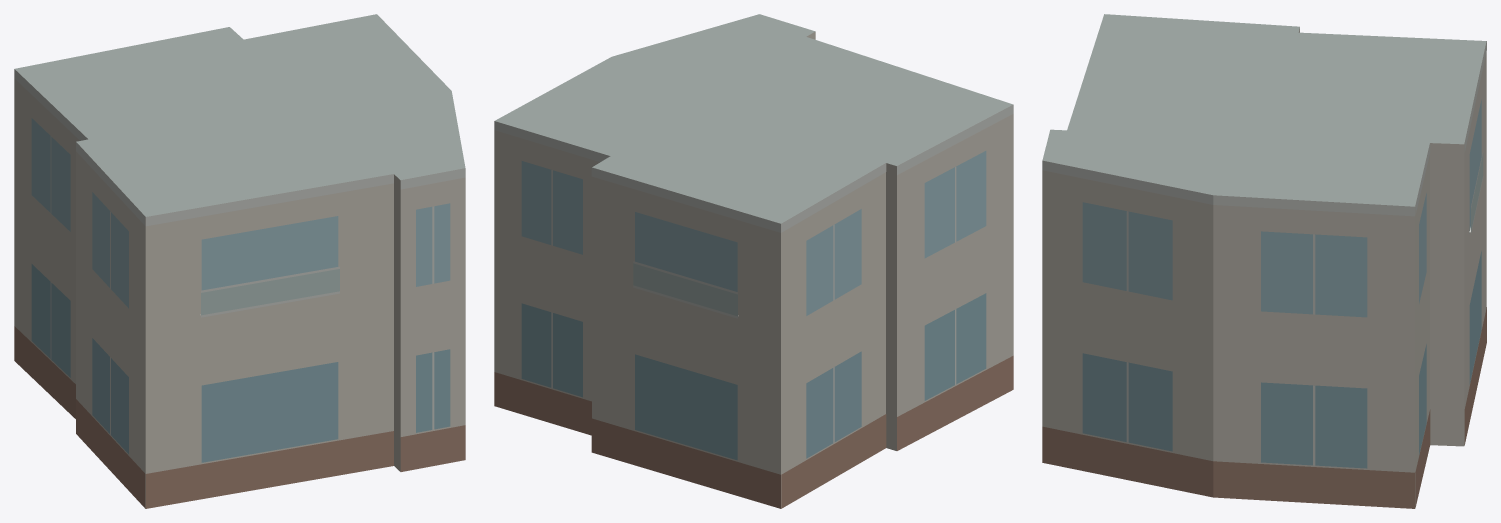
File: survey-upis-32691071.glb
3 renders of one model, left to right at view 1: azimuth 30°, elevation 25°; view 2: azimuth 150°, elevation 25°; view 3: azimuth 270°, elevation 25°, orthographic. The views are drawn at different scales.
Parts seen in each view (by area): view 1: survey-upis-32691071.tmp; view 2: survey-upis-32691071.tmp; view 3: survey-upis-32691071.tmp.
Part boxes in pixels (box(x1,y1,x2,y2)): survey-upis-32691071.tmp: box(14, 14, 465, 508); survey-upis-32691071.tmp: box(494, 14, 1013, 508); survey-upis-32691071.tmp: box(1042, 14, 1486, 508).
Bounding box in the file's own units: 10.4 × 7.6 × 10.14.
